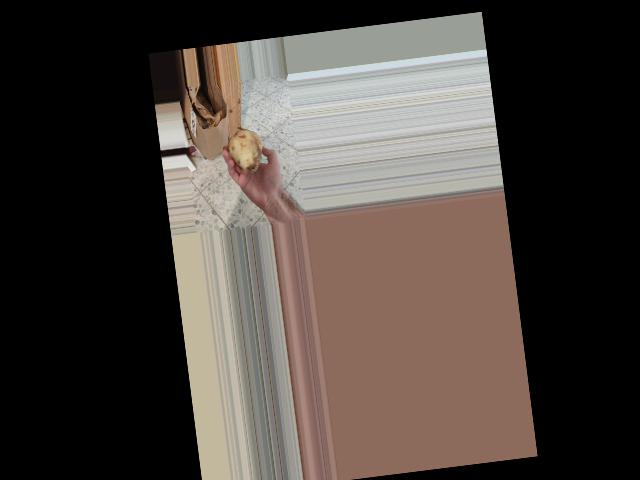onion: (221, 124, 268, 178)
